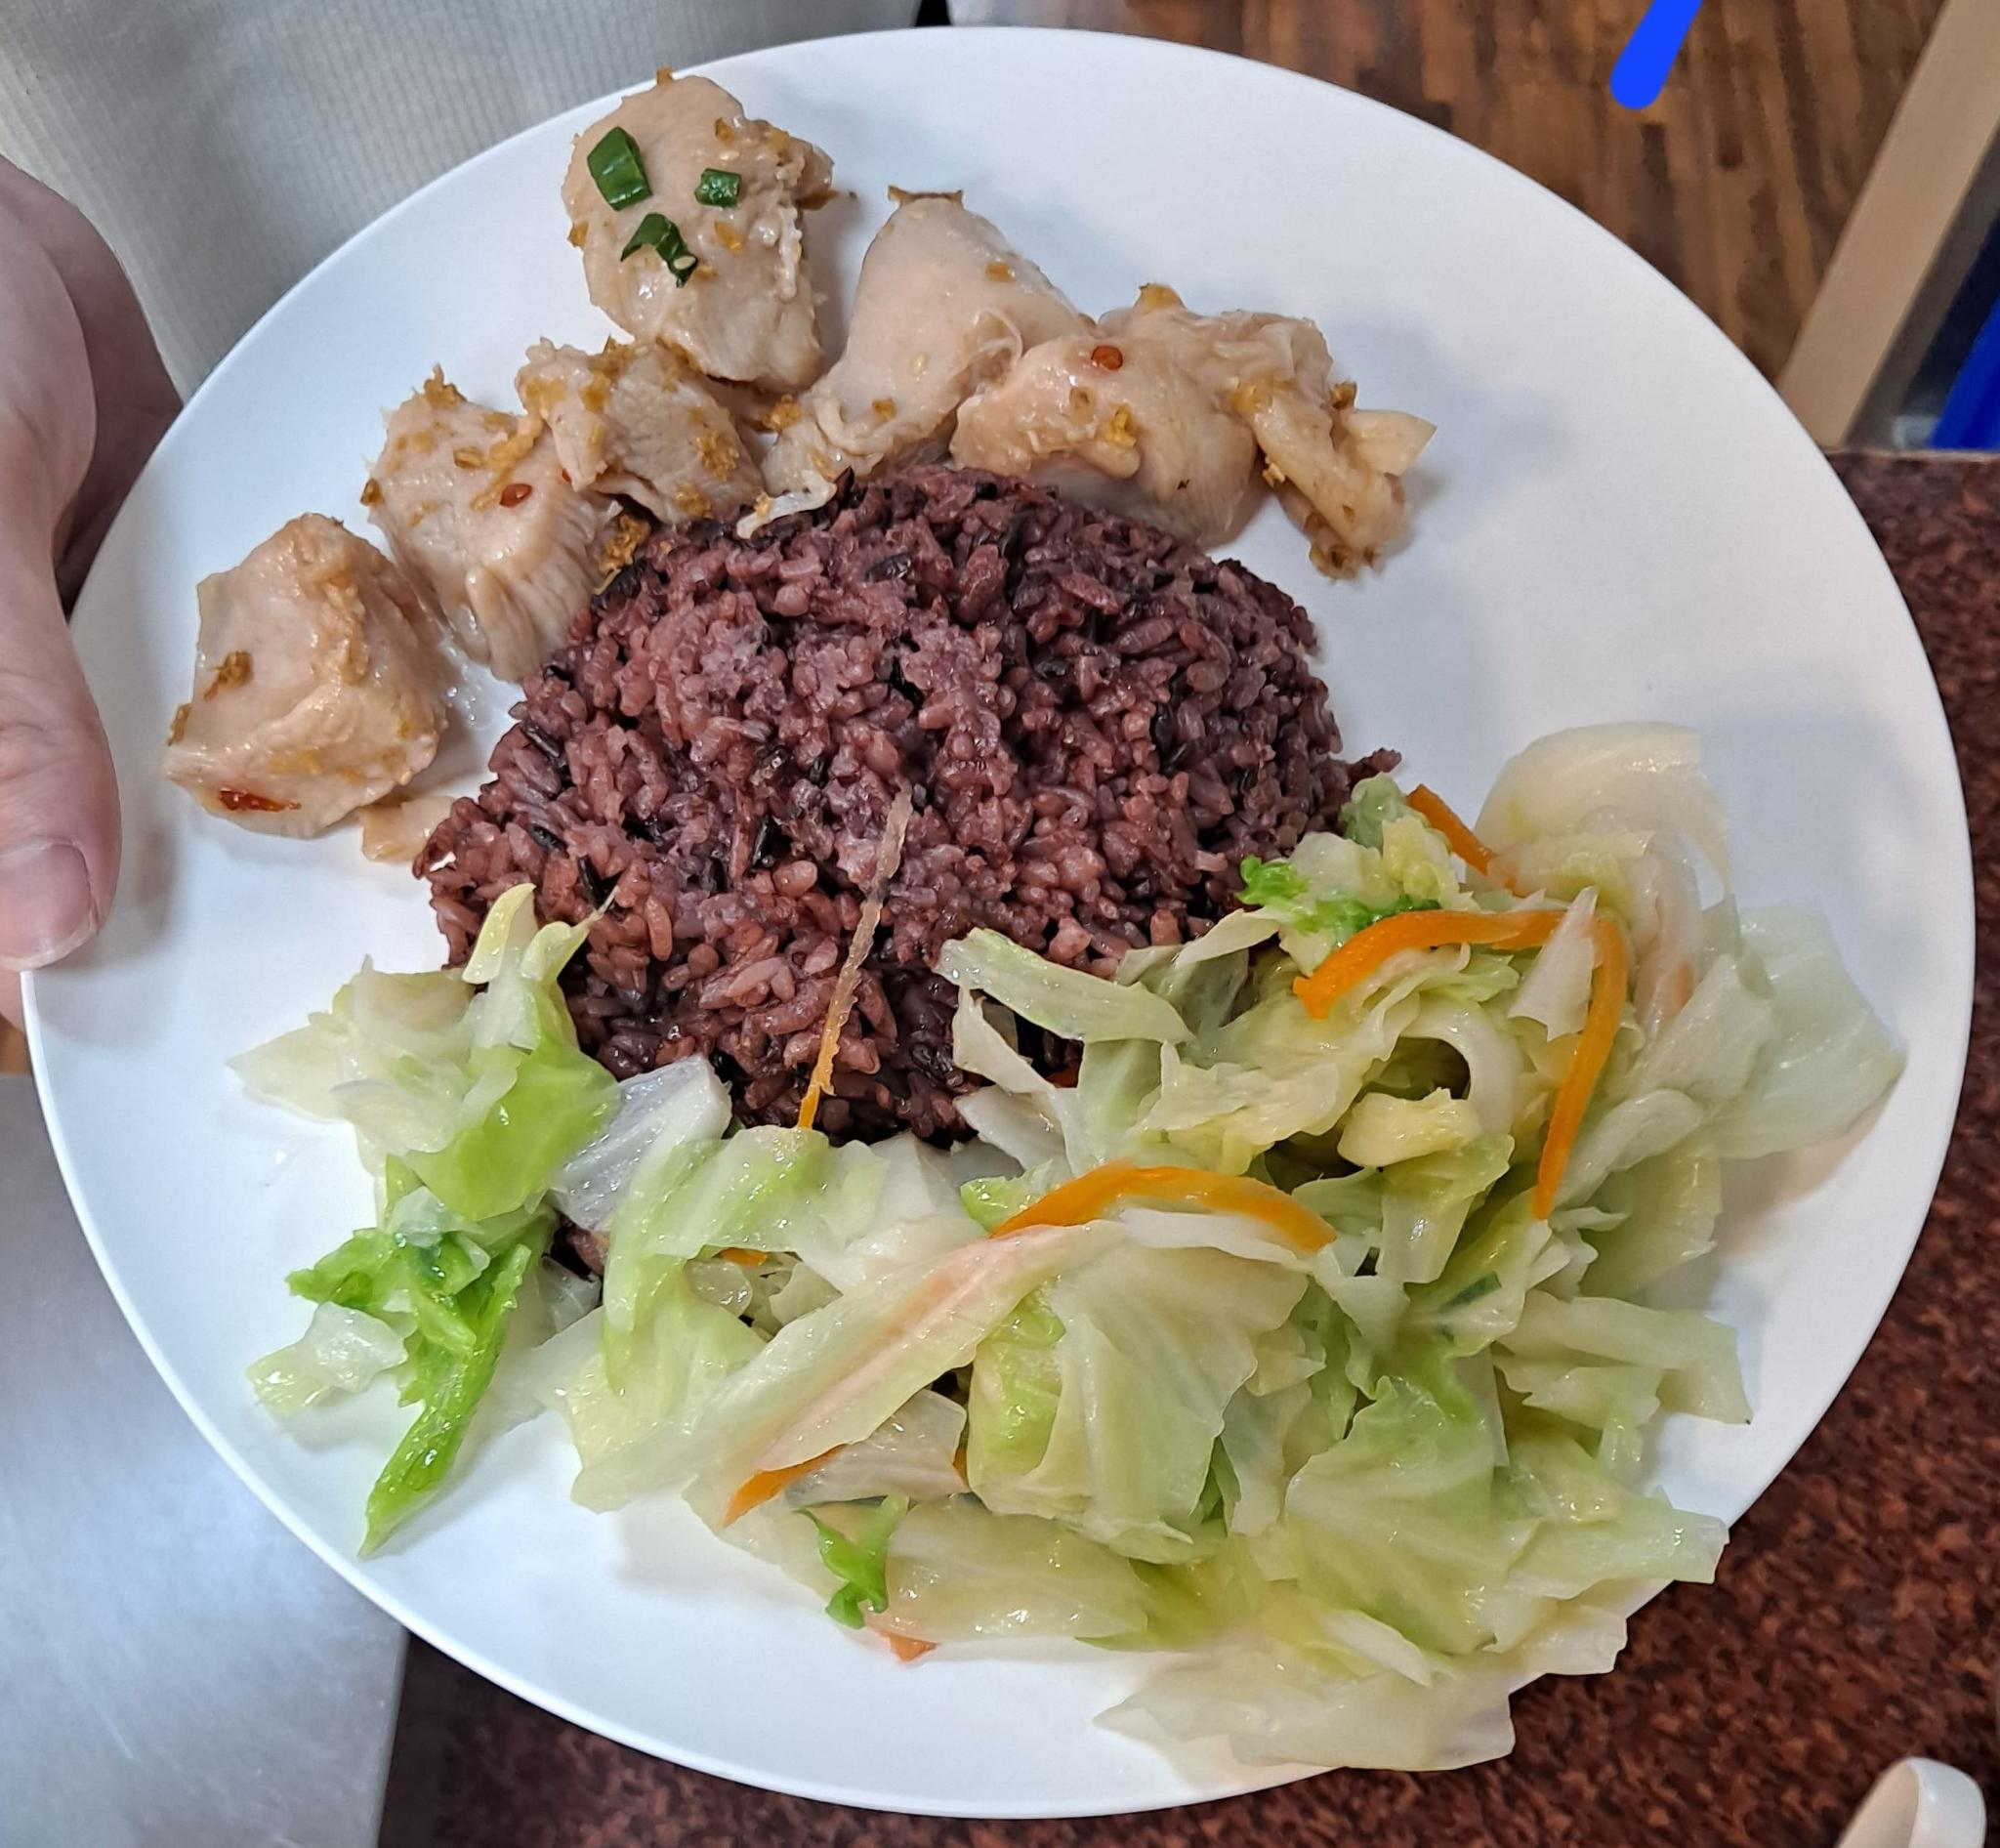big fried chicken leg: (35, 8, 1996, 1832)
braised fish: (431, 481, 1358, 1143)
braised fish fillet: (257, 706, 1890, 1740)
braised pork: (160, 78, 1439, 836)
